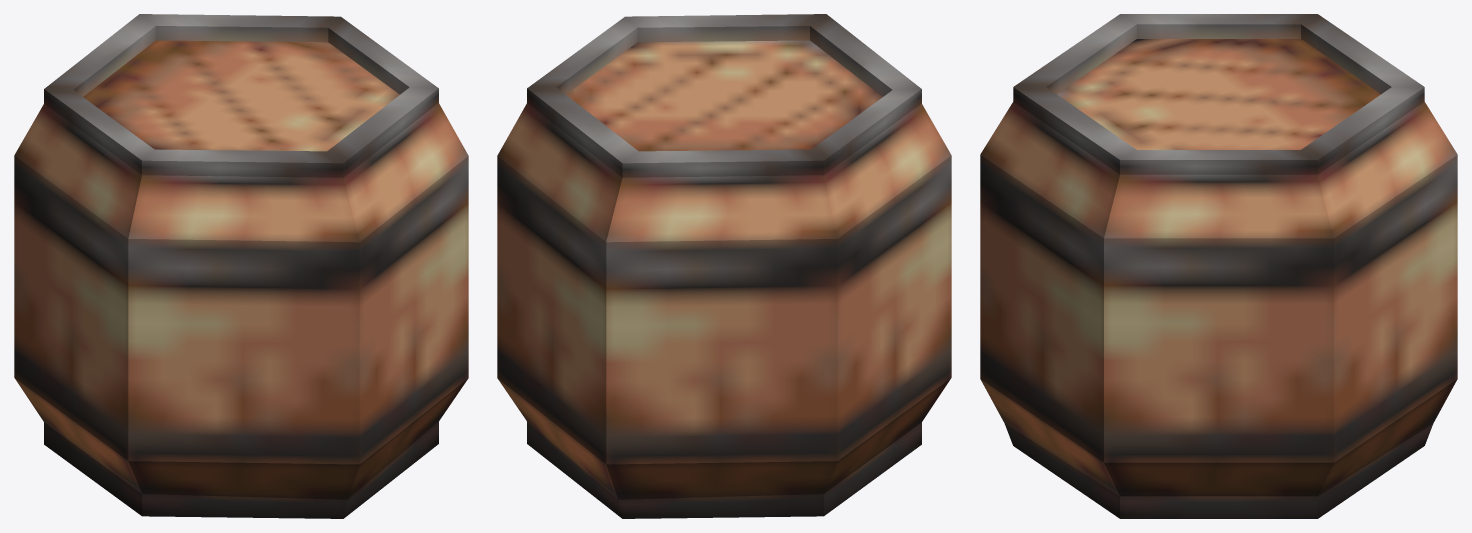
The model's file is Poly_SF_Outside_B_Barrel_01.obj.
3 renders of one model, left to right at view 1: azimuth 30°, elevation 25°; view 2: azimuth 150°, elevation 25°; view 3: azimuth 270°, elevation 25°, orthographic.
Parts seen in each view (by area): view 1: Cube.001; view 2: Cube.001; view 3: Cube.001.
Boxes of the visible parts, x1,y1,x2,y2 form: Cube.001: (14, 14, 468, 518); Cube.001: (497, 14, 951, 518); Cube.001: (980, 14, 1457, 518).
Size of the model in its own units: 0.686 by 0.685 by 0.826.
Materials: 1 (1 with a texture image).
